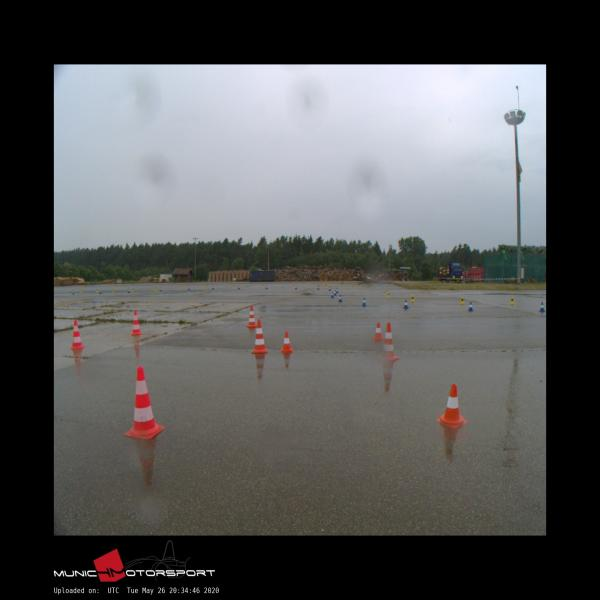blue_cone: (540, 302, 546, 311), (468, 302, 474, 310), (403, 300, 409, 308), (362, 298, 366, 305), (338, 295, 342, 302), (331, 292, 334, 298)
large_orange_cone: (124, 366, 164, 438), (378, 322, 398, 362), (252, 320, 267, 352), (71, 320, 84, 348), (130, 311, 143, 334), (246, 306, 258, 326)
orange_cone: (436, 384, 467, 427), (281, 332, 293, 352), (372, 322, 382, 340)
yellow_cone: (460, 296, 465, 304), (510, 296, 514, 304), (410, 294, 414, 301), (387, 292, 390, 297)
